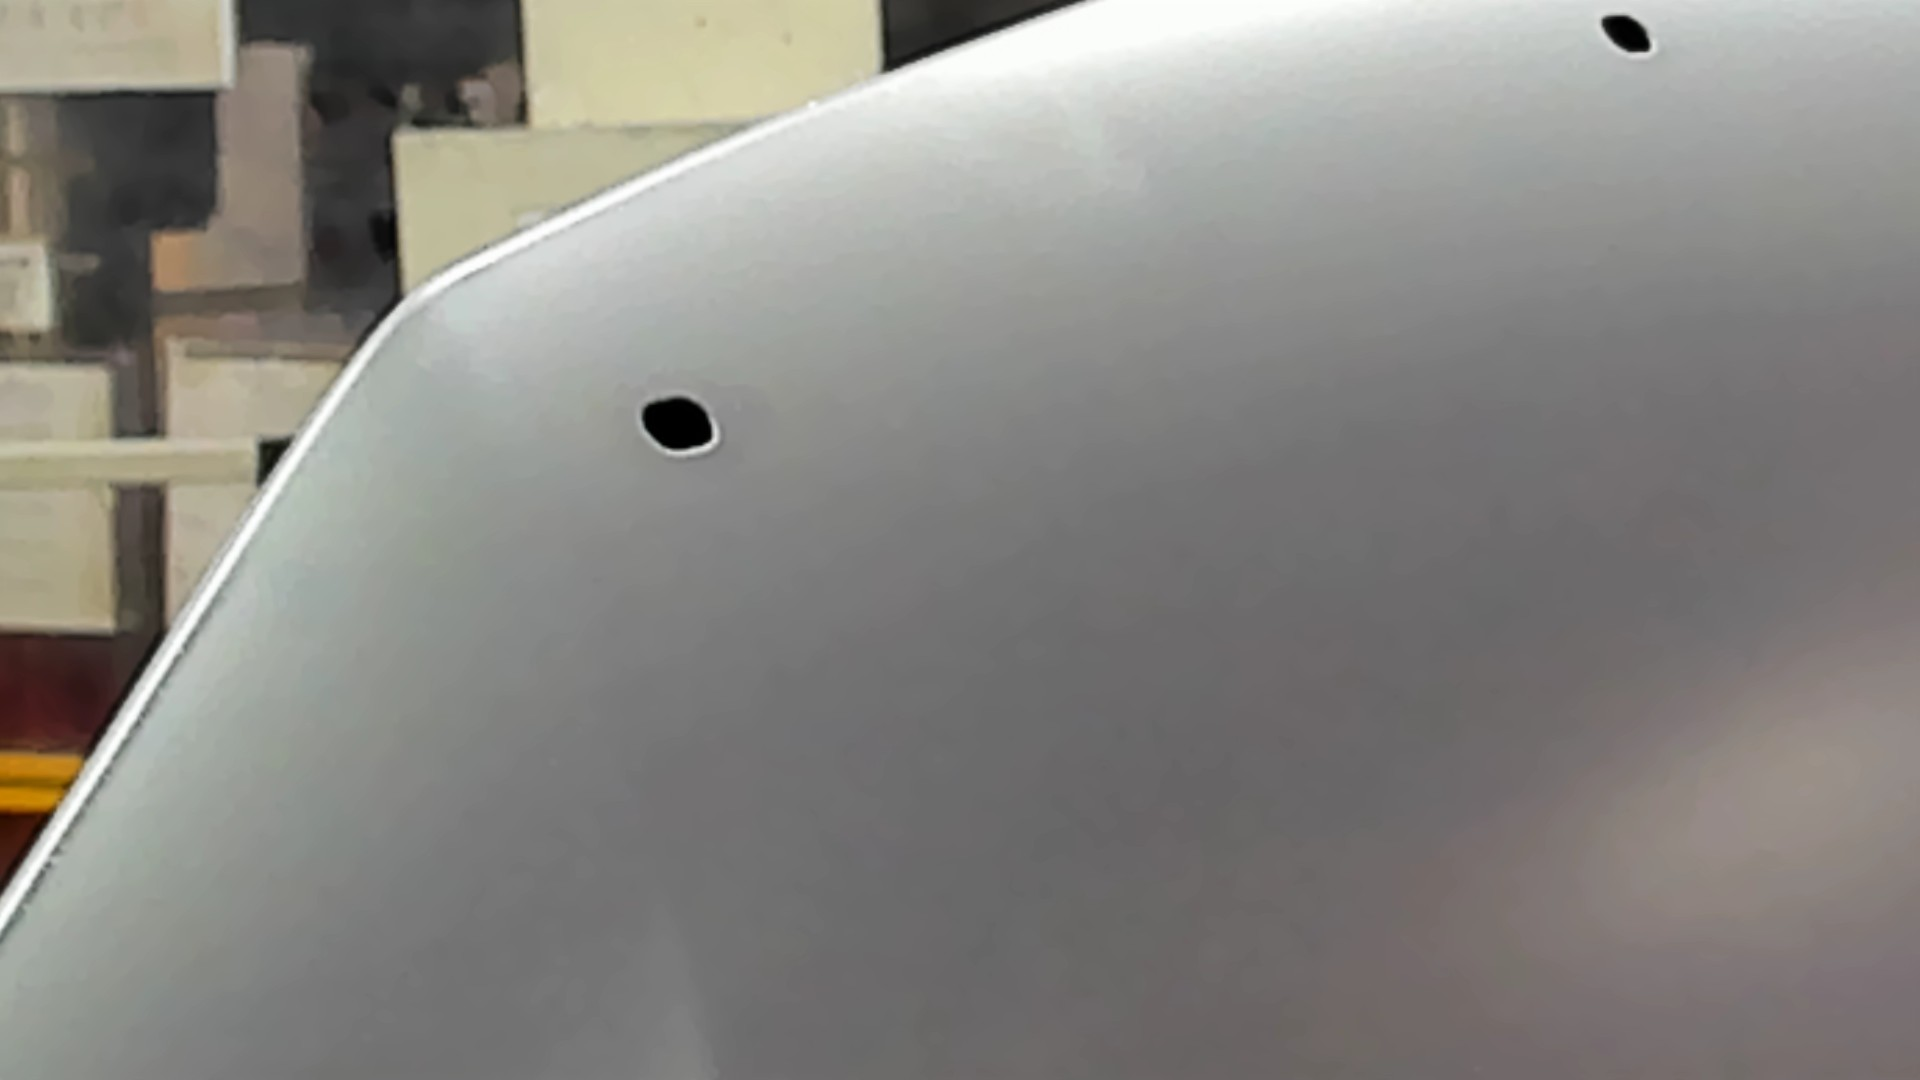amorfo: (636, 386, 723, 458), (1593, 11, 1659, 69)
